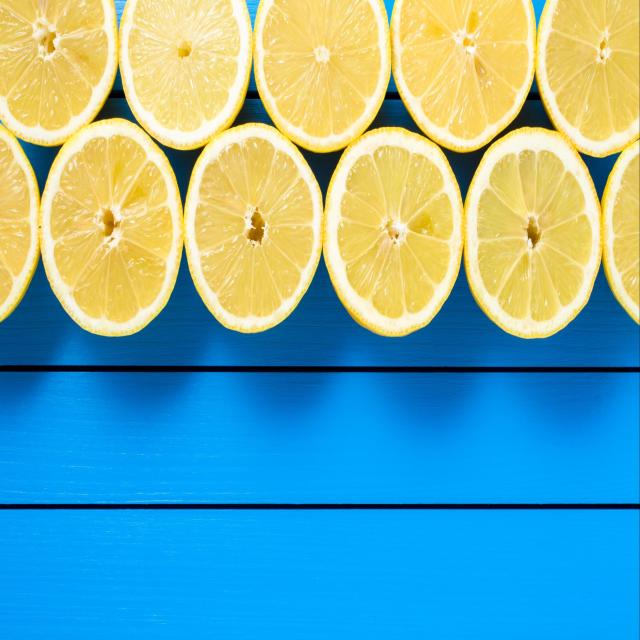lemon: (319, 121, 467, 341), (182, 119, 326, 340)
